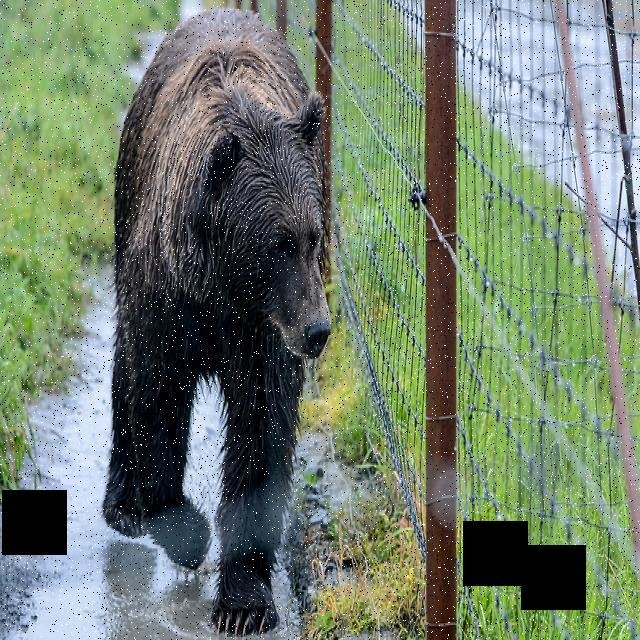Bear: (105, 14, 332, 635)
